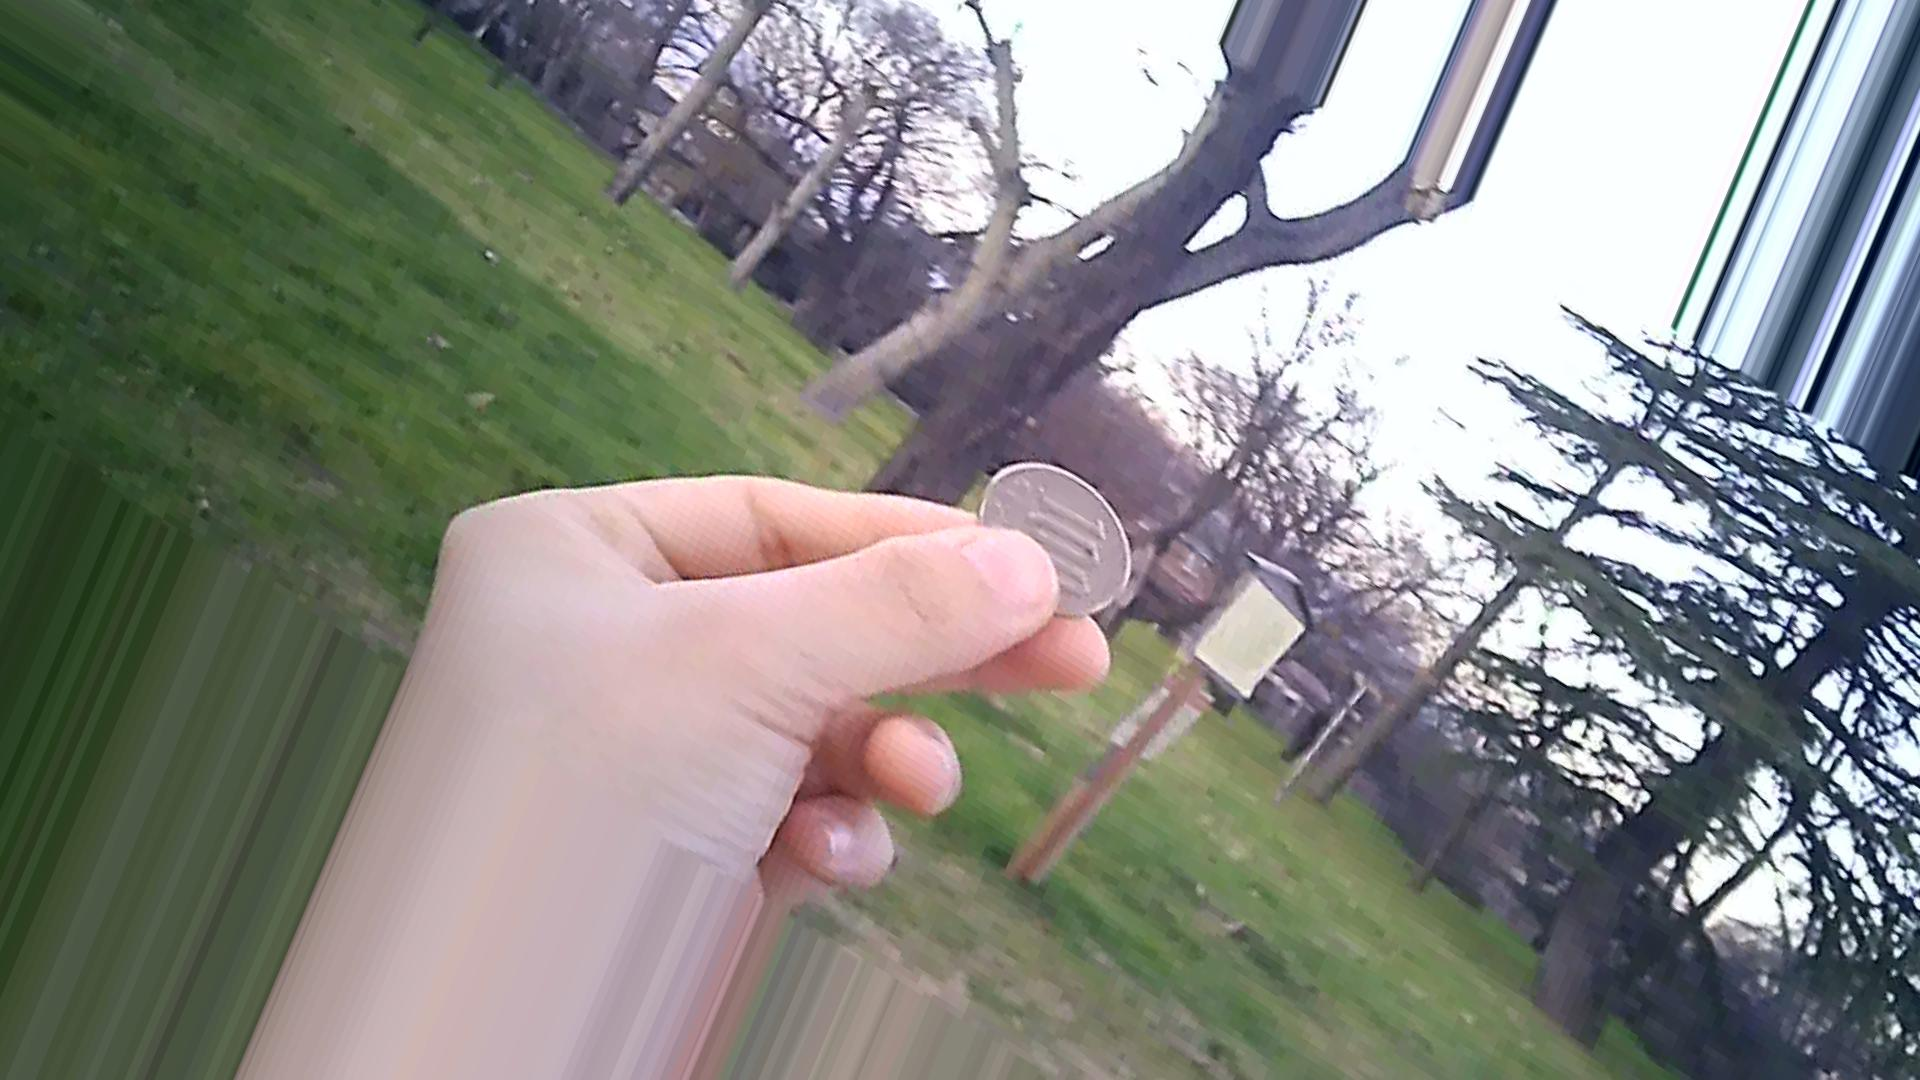100 Yen: (960, 451, 1142, 628)
